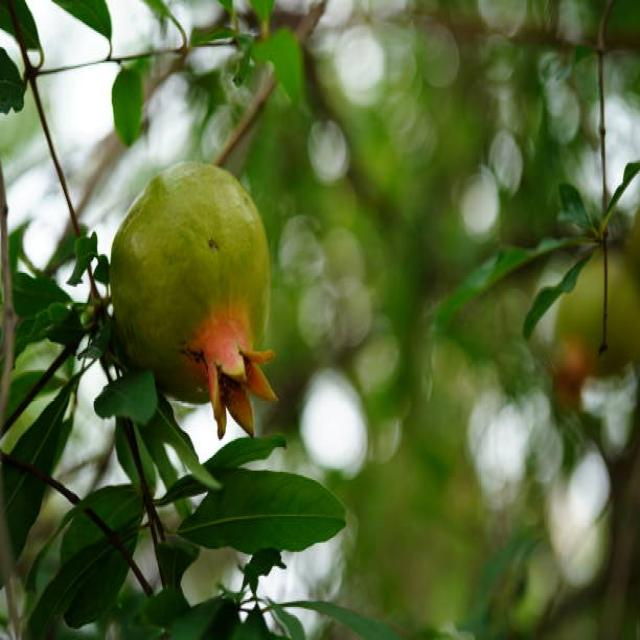Unripe: (104, 164, 278, 438)
